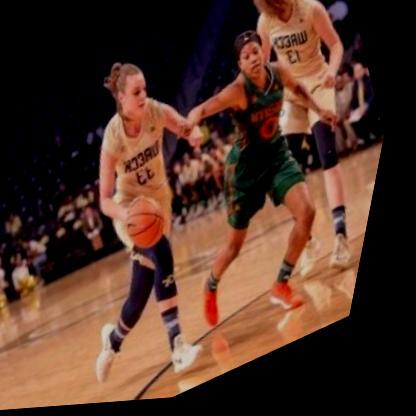basketball: (112, 183, 195, 267)
